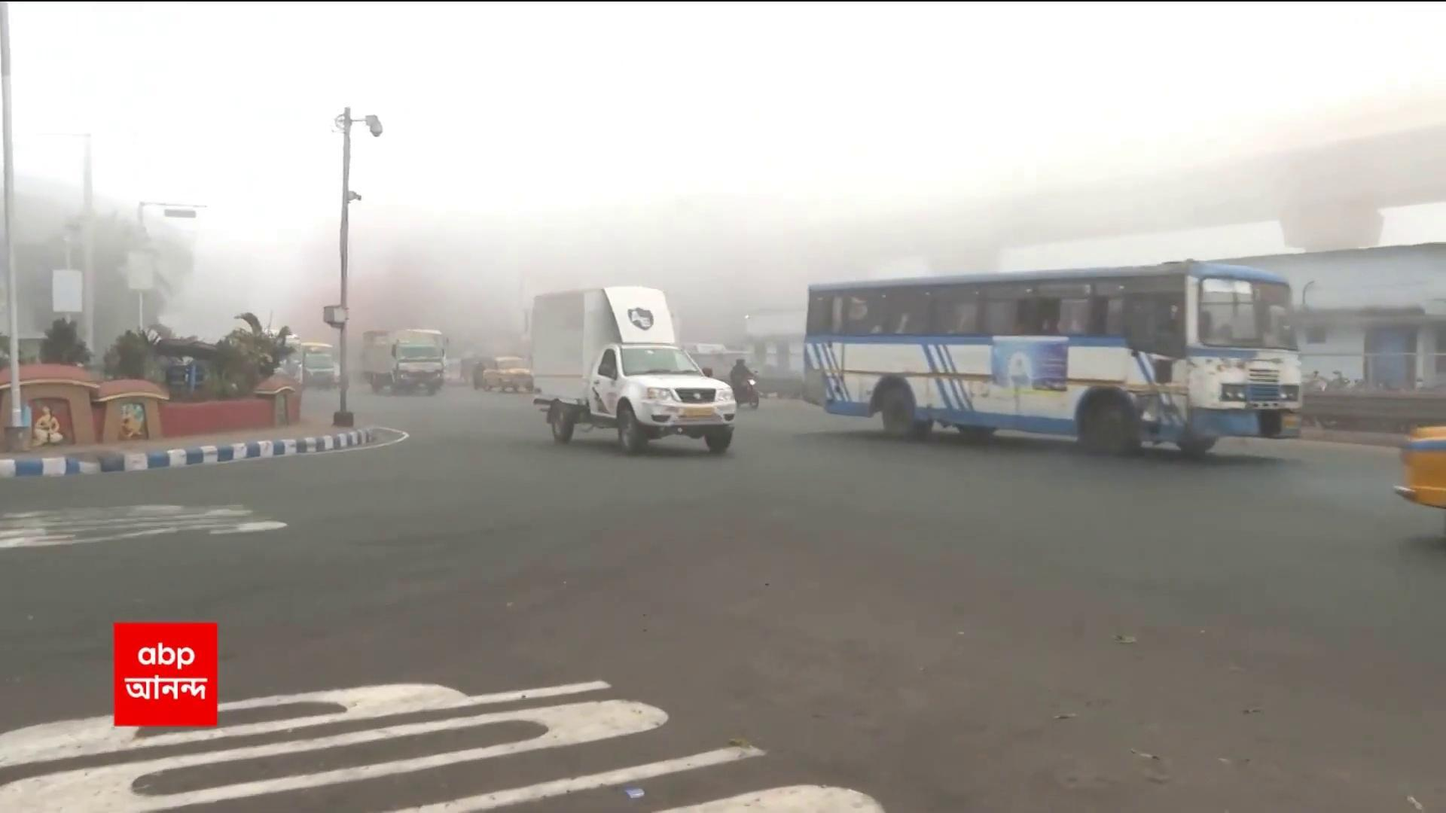Bike: (731, 355, 761, 410)
Bus: (799, 259, 1303, 454)
Car: (482, 355, 534, 392)
Truck: (527, 284, 738, 455), (362, 329, 446, 394)
